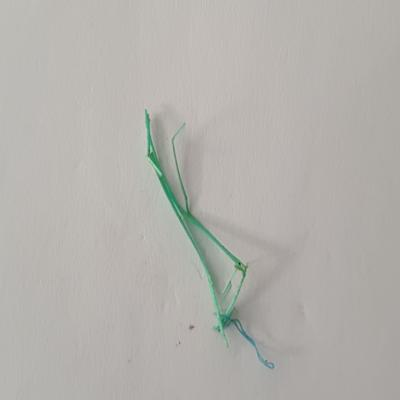thread: (135, 104, 283, 377)
